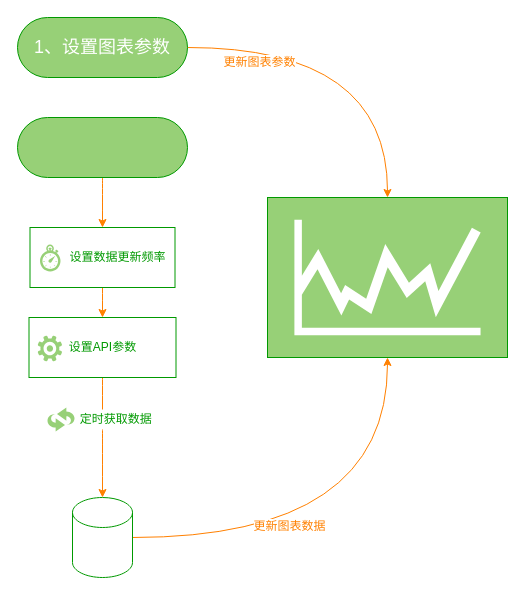
Image size: 525x595. Some labels were removed from this diagram. Each missing label, with the centre of its shape:
"2、设置图表数据" belongs at pixel 102 147.
"API 获取数据" belongs at pixel 102 537.
